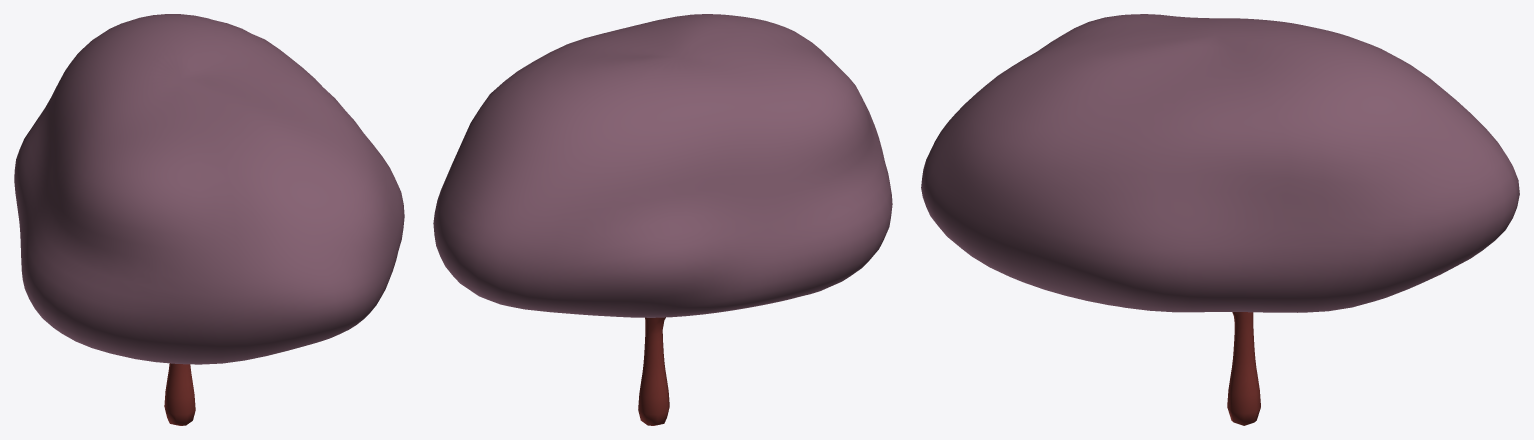
The model's file is Arbol copa grande.fbx.
3 views of the same model, side by side, from view 1: azimuth 30°, elevation 25°; view 2: azimuth 150°, elevation 25°; view 3: azimuth 270°, elevation 25° (orthographic). The views are drawn at different scales.
Parts seen in each view (by area): view 1: Arbol copa grande; view 2: Arbol copa grande; view 3: Arbol copa grande.
Boxes of the visible parts, x1,y1,x2,y2 form: Arbol copa grande: (14, 14, 404, 425); Arbol copa grande: (433, 14, 892, 425); Arbol copa grande: (921, 14, 1519, 425).
Bounding box in the file's own units: 673 × 676 × 935.
